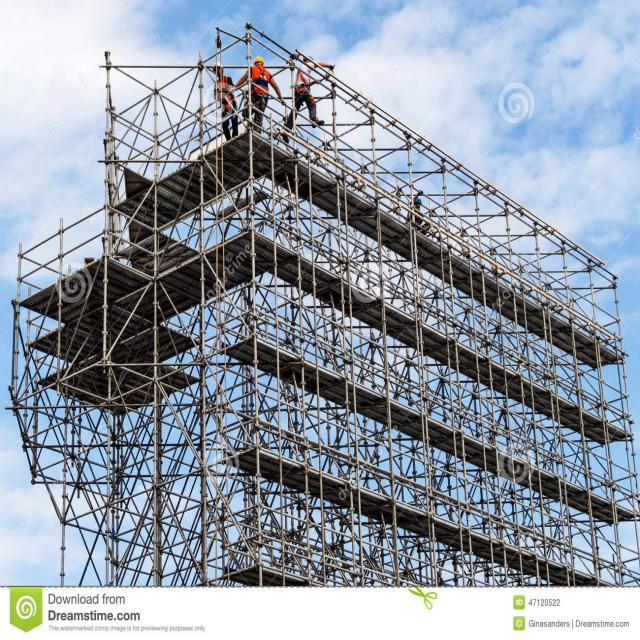Reflective-Jacket: (250, 64, 270, 96), (292, 70, 306, 94), (221, 95, 231, 111)
Safety-Helmet: (253, 56, 265, 64)
